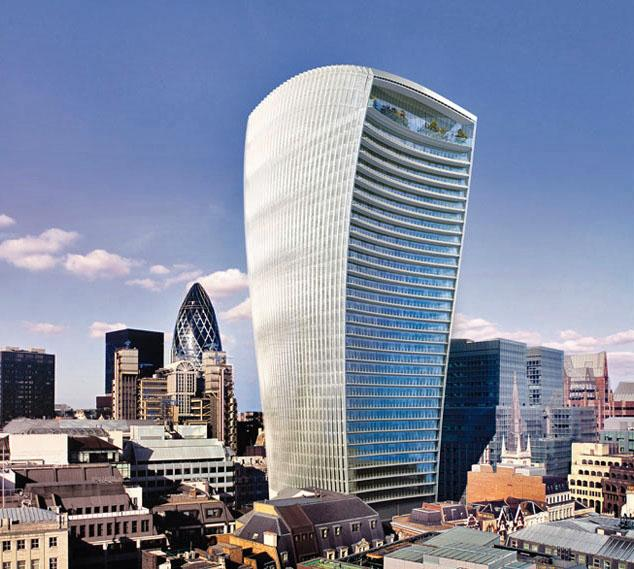Walkie talkie: (224, 60, 486, 500)
